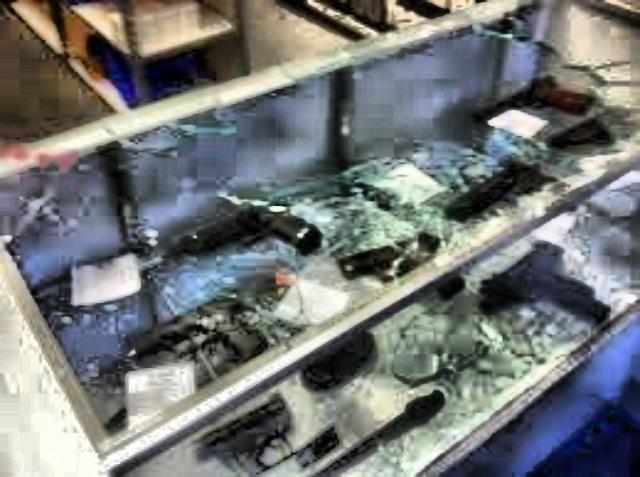pistol: (436, 140, 578, 232), (110, 284, 266, 364), (170, 178, 322, 258), (336, 212, 460, 304), (463, 48, 593, 130)
